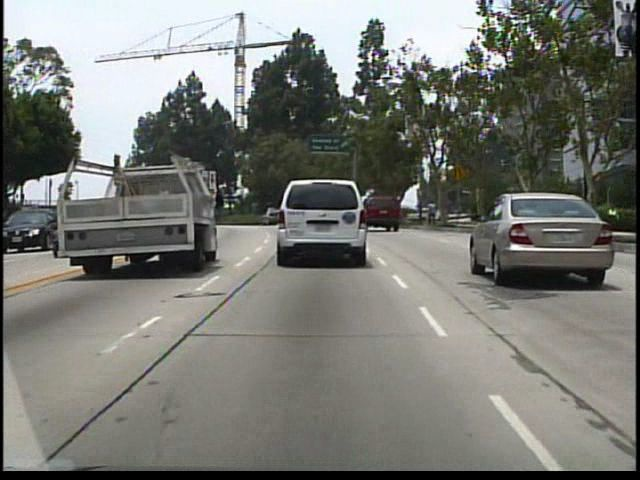person: (426, 195, 439, 228)
